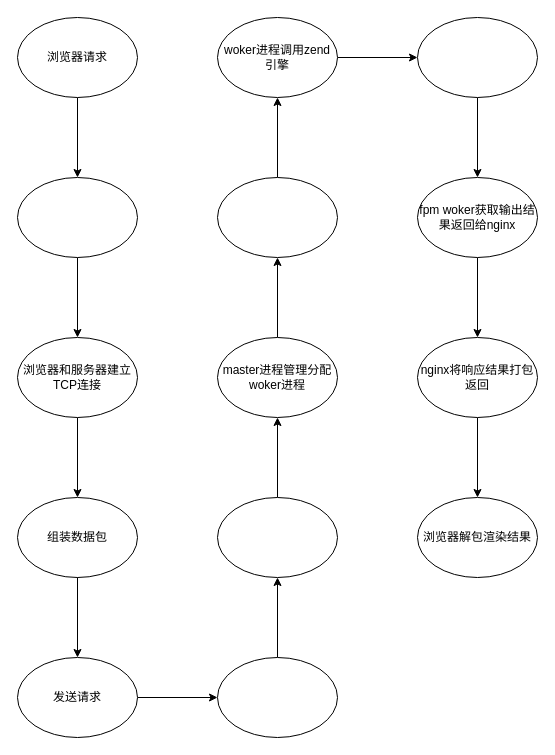
The diagram is 555 pixels wide and 755 high, and some of its shapes have lost their labels. Each missing label, with the centre of its shape:
DNS解析，将域名转换成IP地址: [77,217]
nginx服务器端口监听接收到请求: [277,697]
woker进程执行 fcgi_accept_request 函数获取请求参数: [277,217]
zend引擎进行词法，语法解析，编译成可执行opcodes指令: [477,57]
通过FastCGI协议转发给php-fpm: [277,537]
